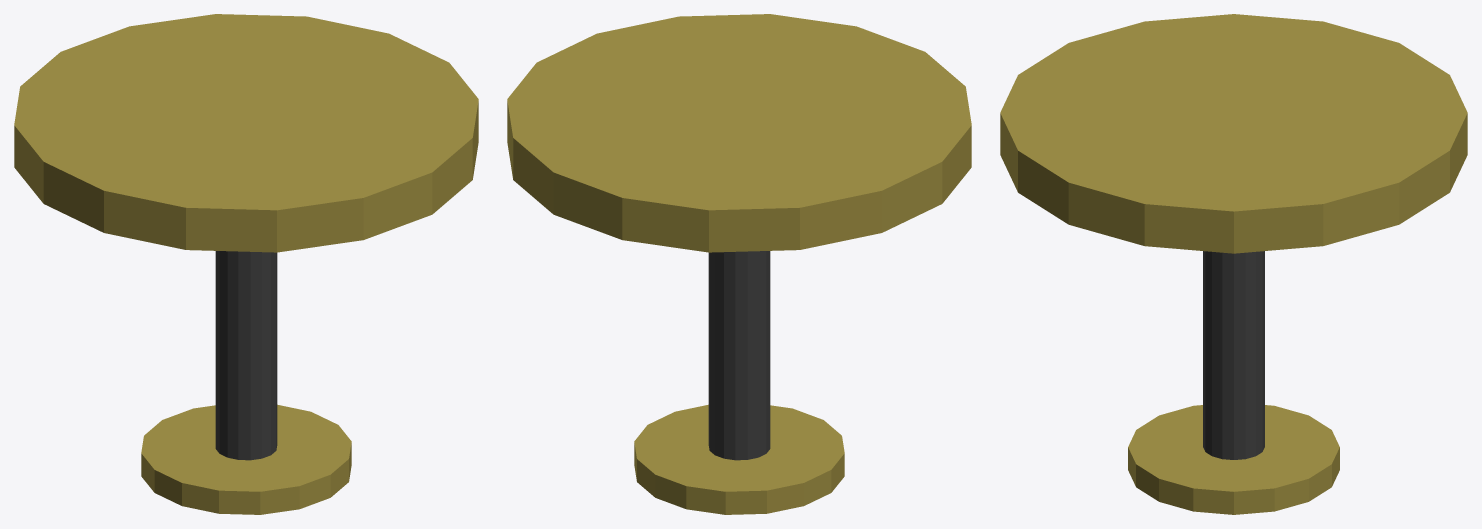
File: coffeetablesmall.fbx
3 views of the same model, side by side, from view 1: azimuth 30°, elevation 25°; view 2: azimuth 150°, elevation 25°; view 3: azimuth 270°, elevation 25° (orthographic).
Visible parts, largest first — view 1: Cylinder; view 2: Cylinder; view 3: Cylinder.
Part boxes in pixels (<box>): Cylinder: <box>14,14,478,514</box>; Cylinder: <box>507,14,971,514</box>; Cylinder: <box>1000,14,1467,514</box>.
Bounding box in the file's own units: 47.41 × 40 × 47.41.
